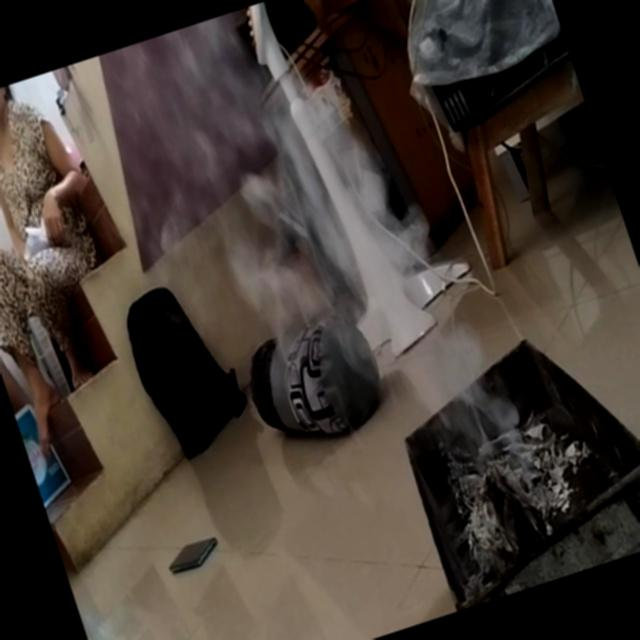smoke: (146, 0, 408, 325), (362, 255, 580, 552)
